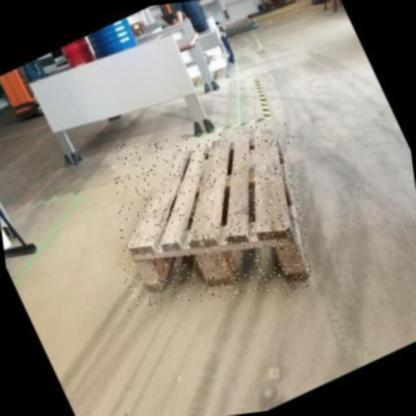pallet: (124, 132, 311, 294)
